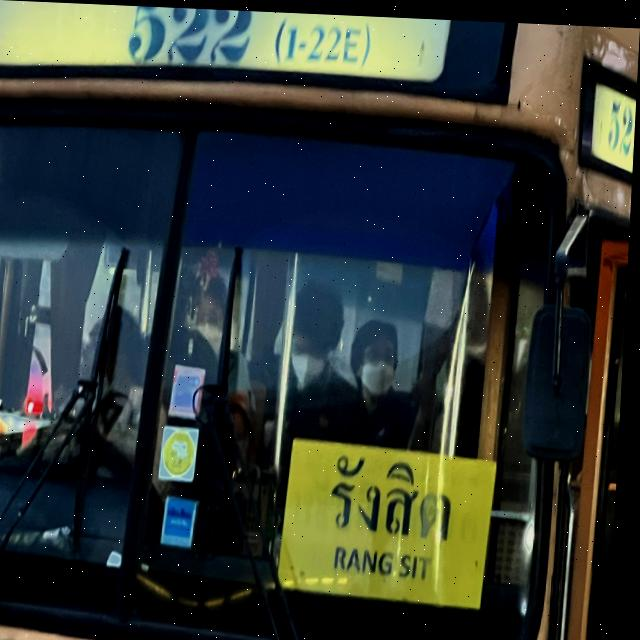BMTA-bus: (0, 0, 640, 640)
Bus-Line-Number: (93, 3, 390, 71)
Destination-Sign-Normal-Expressway: (283, 430, 502, 612)
